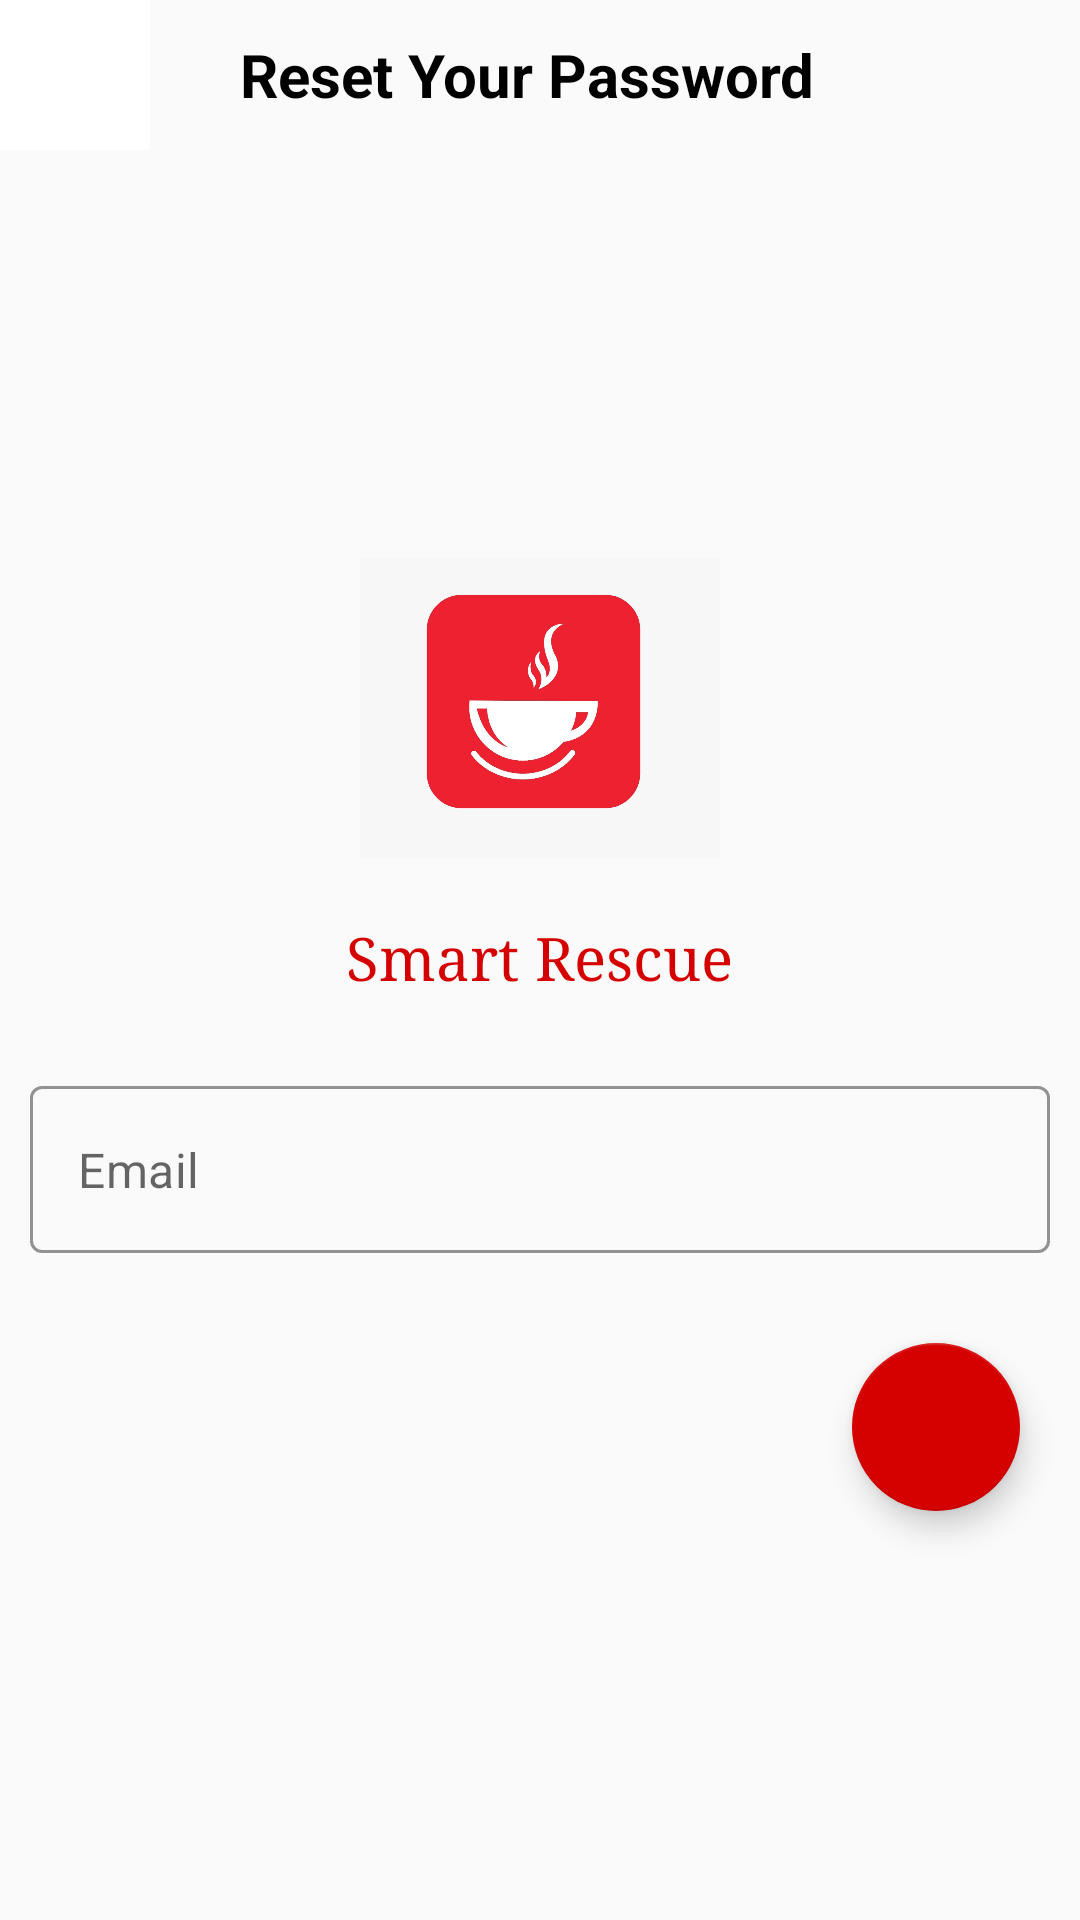

Screen size 1080*1920. Icon name, then its center in pixels as [x,y]:
appicon: [533,702]
